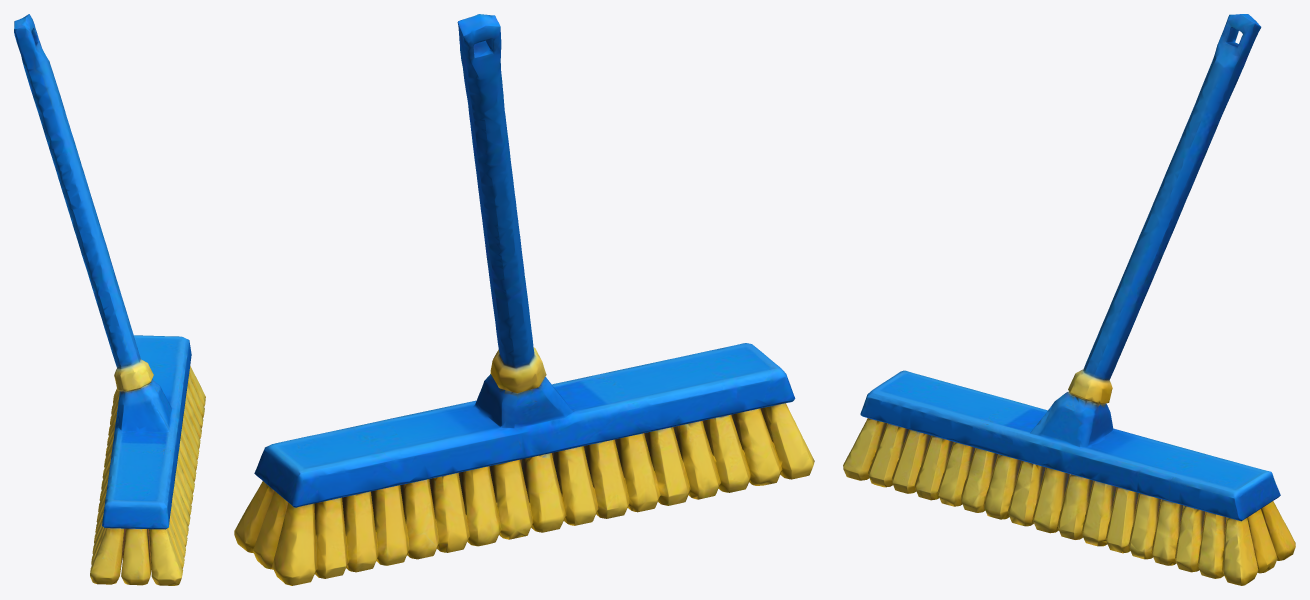
File: Yardsweep-WideBroom.glb
3 views of the same model, side by side, from view 1: azimuth 30°, elevation 25°; view 2: azimuth 150°, elevation 25°; view 3: azimuth 270°, elevation 25° (orthographic). The views are drawn at different scales.
Parts seen in each view (by area): view 1: tripo_node_78275338-6bdb-4a9e-8461-f536cdd4d785; view 2: tripo_node_78275338-6bdb-4a9e-8461-f536cdd4d785; view 3: tripo_node_78275338-6bdb-4a9e-8461-f536cdd4d785.
Part boxes in pixels (left/top/right/bottom): tripo_node_78275338-6bdb-4a9e-8461-f536cdd4d785: left=14, top=14, right=205, bottom=585; tripo_node_78275338-6bdb-4a9e-8461-f536cdd4d785: left=234, top=14, right=814, bottom=585; tripo_node_78275338-6bdb-4a9e-8461-f536cdd4d785: left=843, top=14, right=1295, bottom=585.
Size of the model in its own units: 0.6567 by 1 by 0.8608.
Materials: 1 (1 with a texture image).
